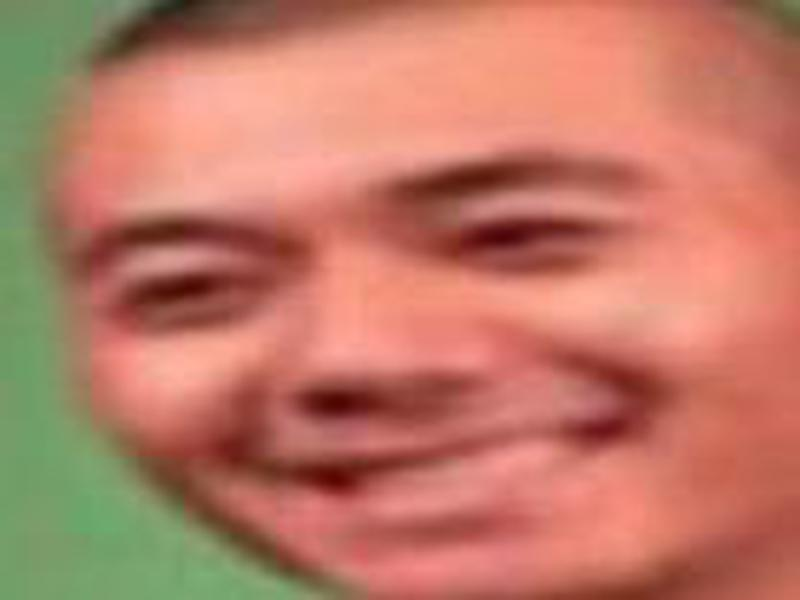without_mask: (46, 51, 800, 585)
